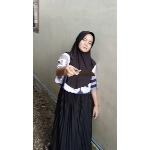Pisau: (60, 68, 100, 80)
